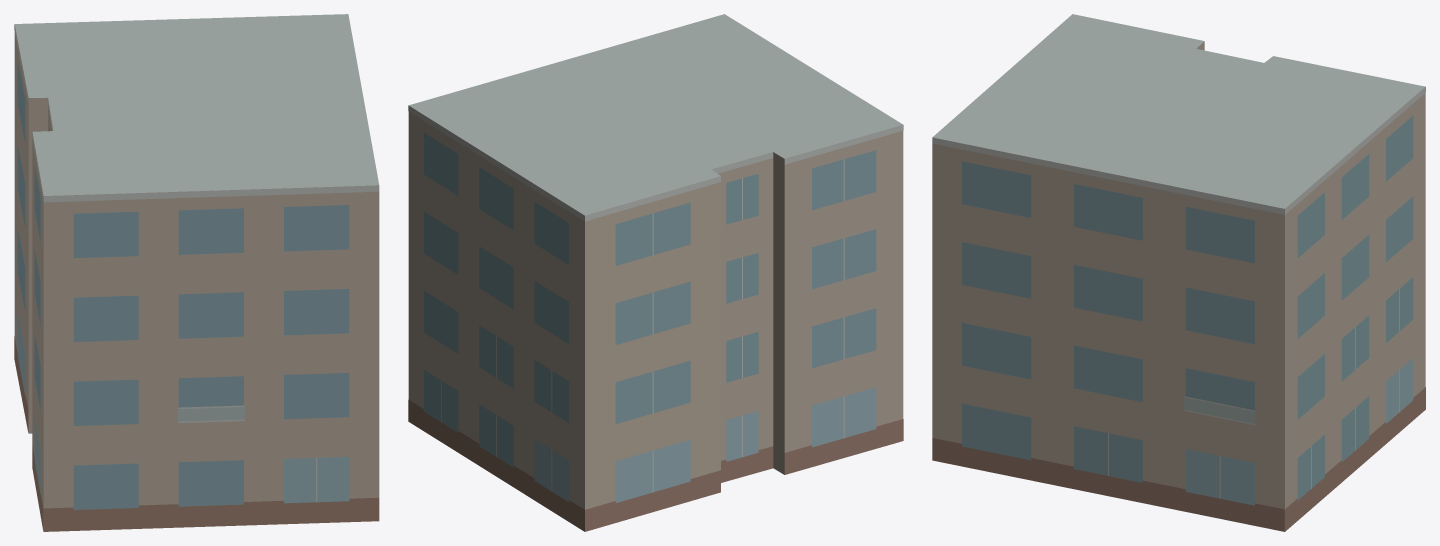
The model's file is survey-upis-32810087.glb.
3 renders of one model, left to right at view 1: azimuth 30°, elevation 25°; view 2: azimuth 150°, elevation 25°; view 3: azimuth 270°, elevation 25°, orthographic. The views are drawn at different scales.
Parts seen in each view (by area): view 1: survey-upis-32810087.tmp; view 2: survey-upis-32810087.tmp; view 3: survey-upis-32810087.tmp.
Part boxes in pixels (x1,y1,x2,y2): survey-upis-32810087.tmp: (14, 14, 379, 531); survey-upis-32810087.tmp: (408, 14, 903, 531); survey-upis-32810087.tmp: (932, 14, 1425, 531).
Bounding box in the file's own units: 16.83 × 13 × 18.01.
